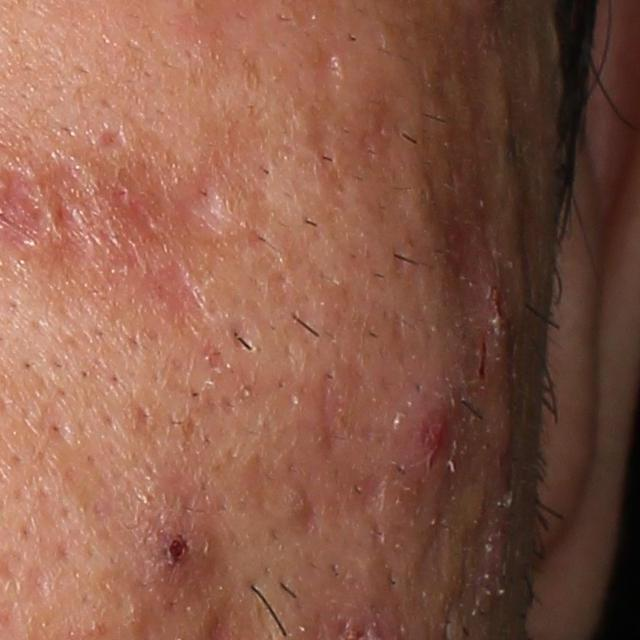atrophic_scar: (297, 44, 352, 181), (311, 352, 360, 473), (286, 485, 323, 532), (228, 316, 264, 355), (102, 129, 128, 150)
papule: (148, 505, 212, 583), (405, 405, 455, 475)
